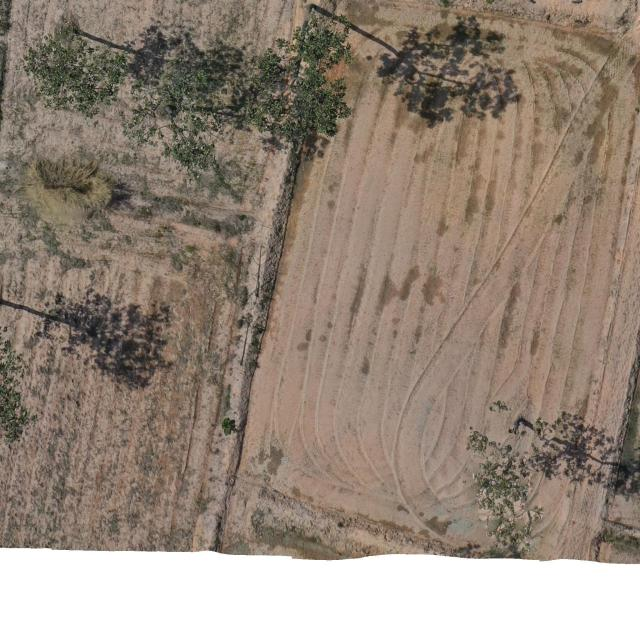Tree: (230, 13, 352, 160), (117, 44, 238, 168), (13, 13, 130, 116), (464, 425, 545, 561)
